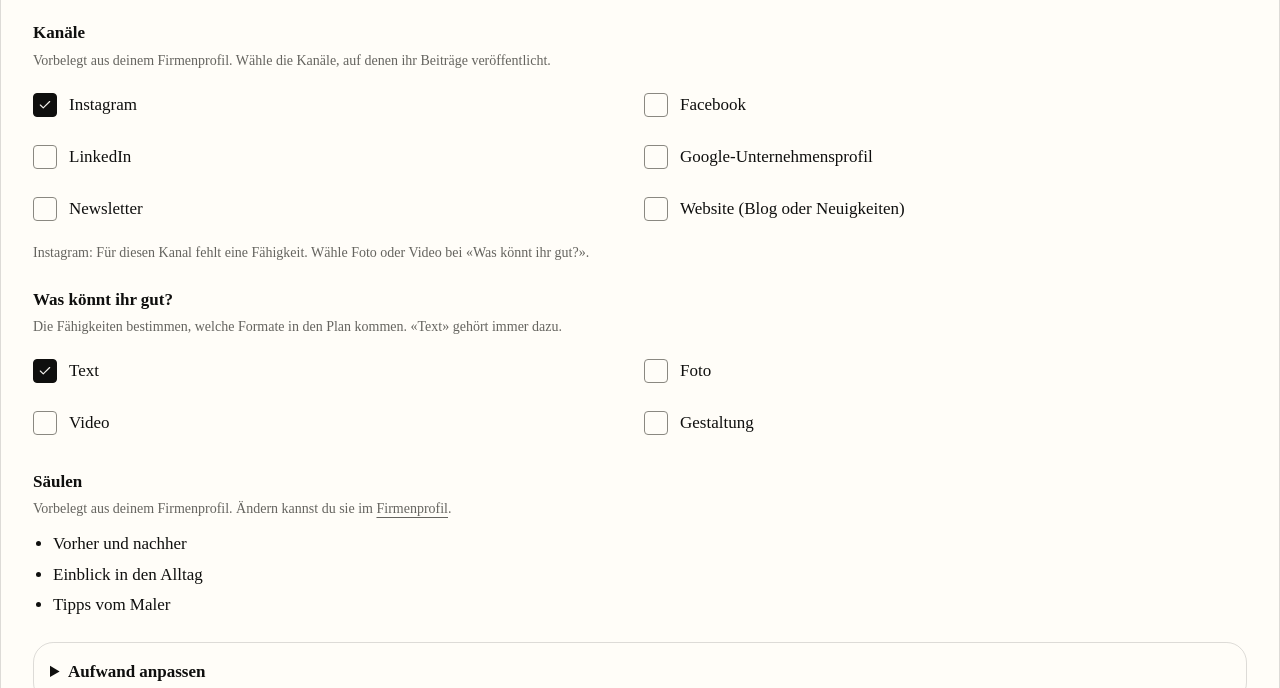
Test: posting-plan: Werkzeug im Browser › zeigt den Hinweis «Für diesen Kanal fehlt eine Fähigkeit» und verlangt ein Format
(page scrolled)
Expected: the checkbox named "Instagram" is checked, [33,93,57,117]
Expected: the checkbox named "Google-Unternehmensprofil" is not checked, [644,145,668,169]
Click the checkbox named "Foto".
click(656, 371)  # box [644,359,668,383]
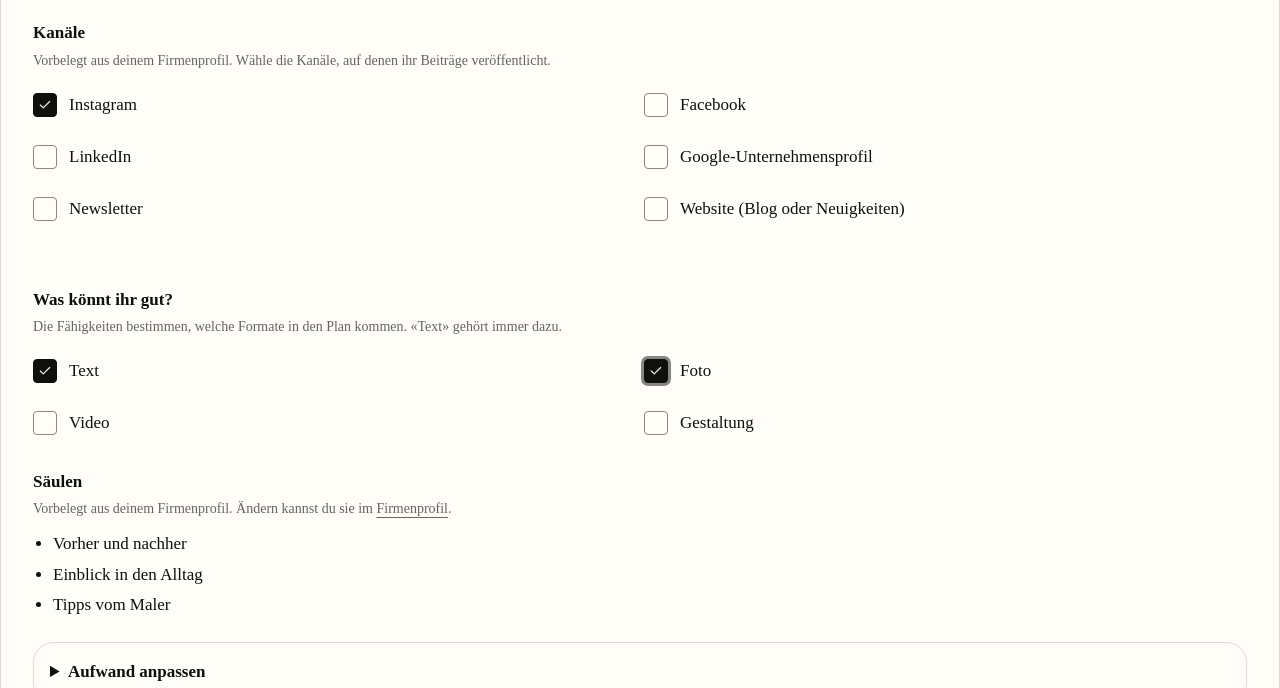
Click the checkbox named "Foto".
click(656, 371)  # box [644,359,668,383]
(page scrolled)
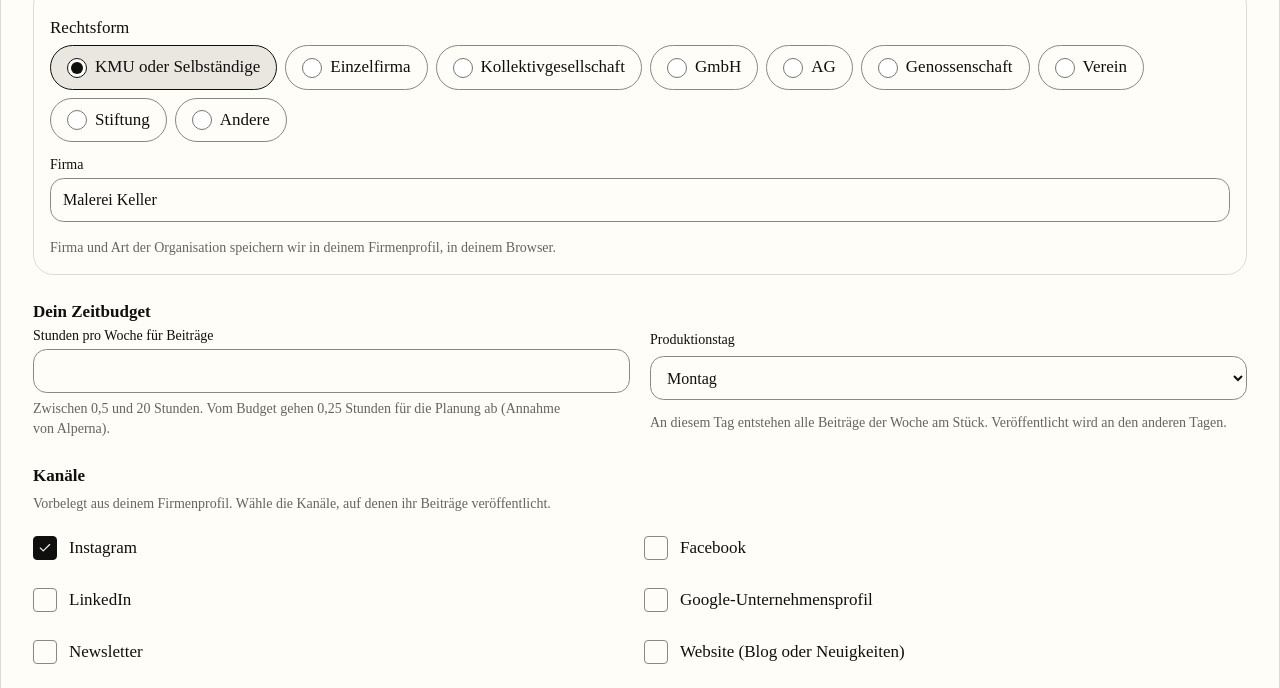
Type "4" into the number field labelled "Stunden pro Woche für Beiträge".
click(332, 371); type("4")  # box [33,349,630,393]
(page scrolled)
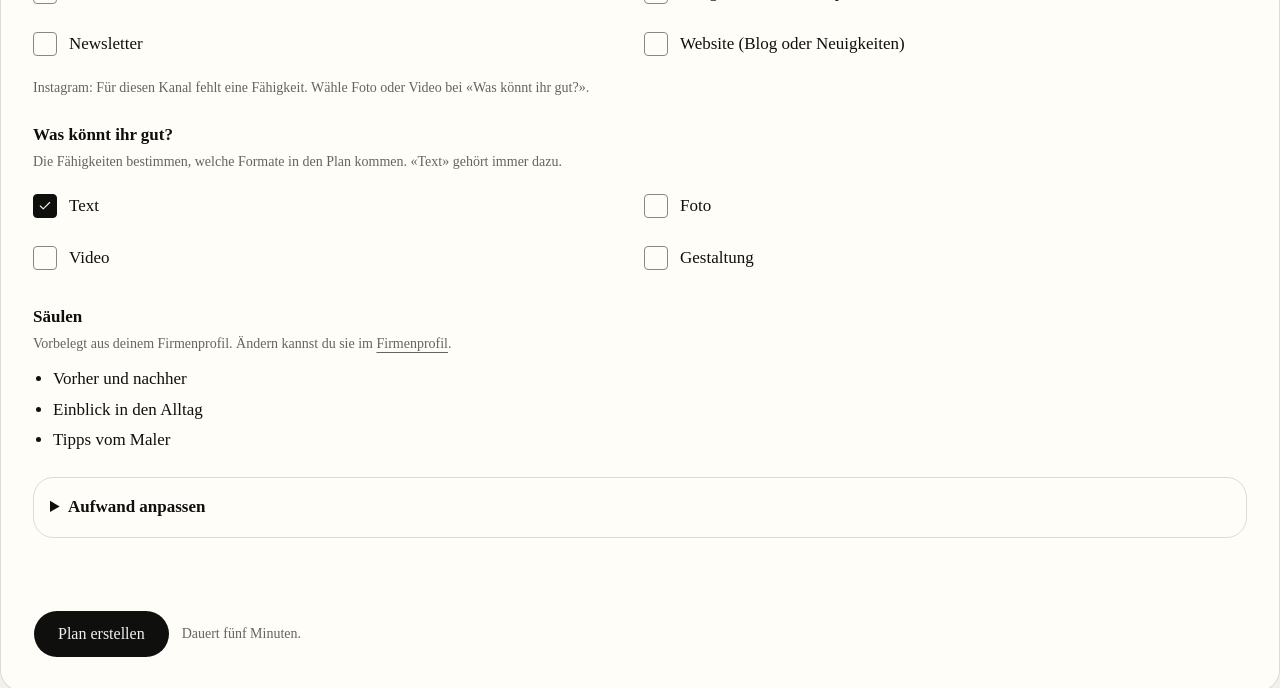
Click the button "Plan erstellen".
click(101, 634)  # box [33,610,170,658]
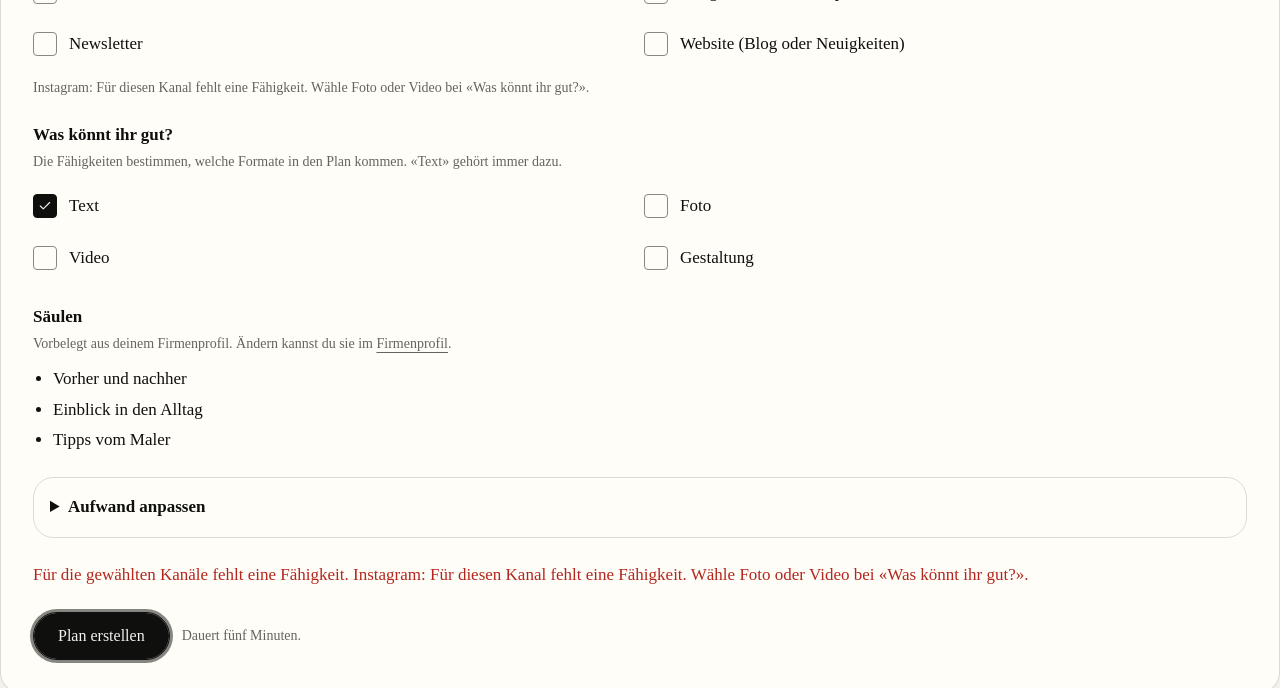
Result: the text "Für die gewählten Kanäle fehlt eine Fähigkeit" is shown at [33,565,1028,584]
